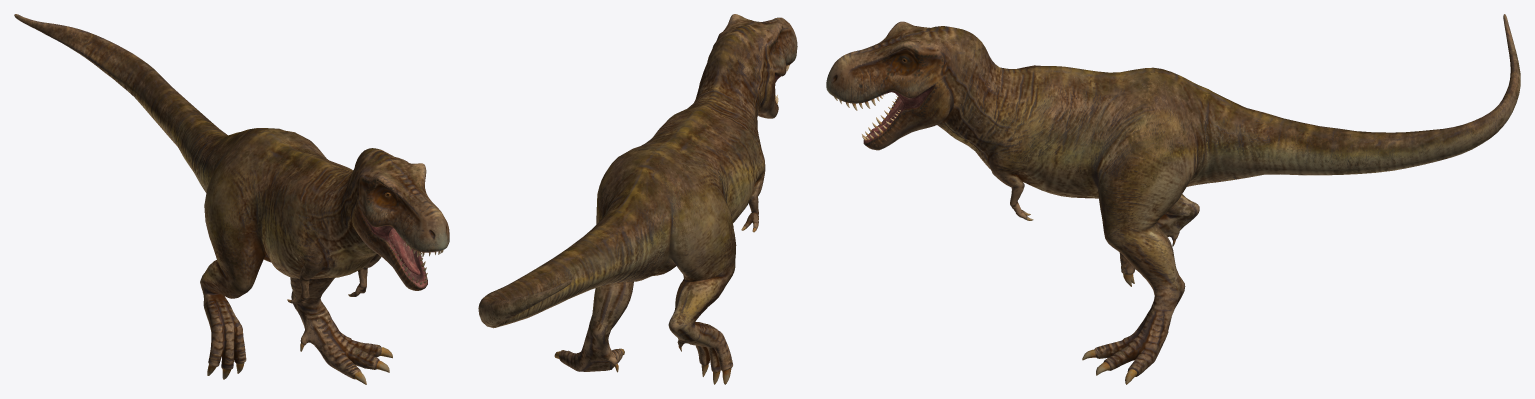
File: tiranosaurio_rex.glb
3 views of the same model, side by side, from view 1: azimuth 30°, elevation 25°; view 2: azimuth 150°, elevation 25°; view 3: azimuth 270°, elevation 25° (orthographic). The views are drawn at different scales.
Parts seen in each view (by area): view 1: tyrannosaurus_rex.1_1; view 2: tyrannosaurus_rex.1_1; view 3: tyrannosaurus_rex.1_1.
Boxes of the visible parts, box(x1,y1,x2,y2) form: tyrannosaurus_rex.1_1: box(14, 14, 449, 384); tyrannosaurus_rex.1_1: box(478, 14, 797, 384); tyrannosaurus_rex.1_1: box(826, 14, 1520, 384).
Bounding box in the file's own units: 2.75 × 3.91 × 8.02.
1 material, 1 textured.
